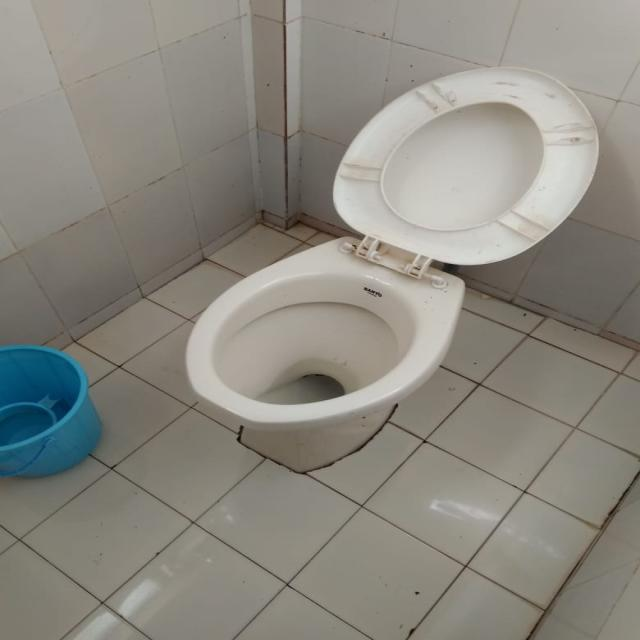dirty_floor: (1, 217, 638, 637), (1, 0, 638, 357), (182, 62, 600, 473), (221, 295, 404, 472), (254, 356, 361, 405)
